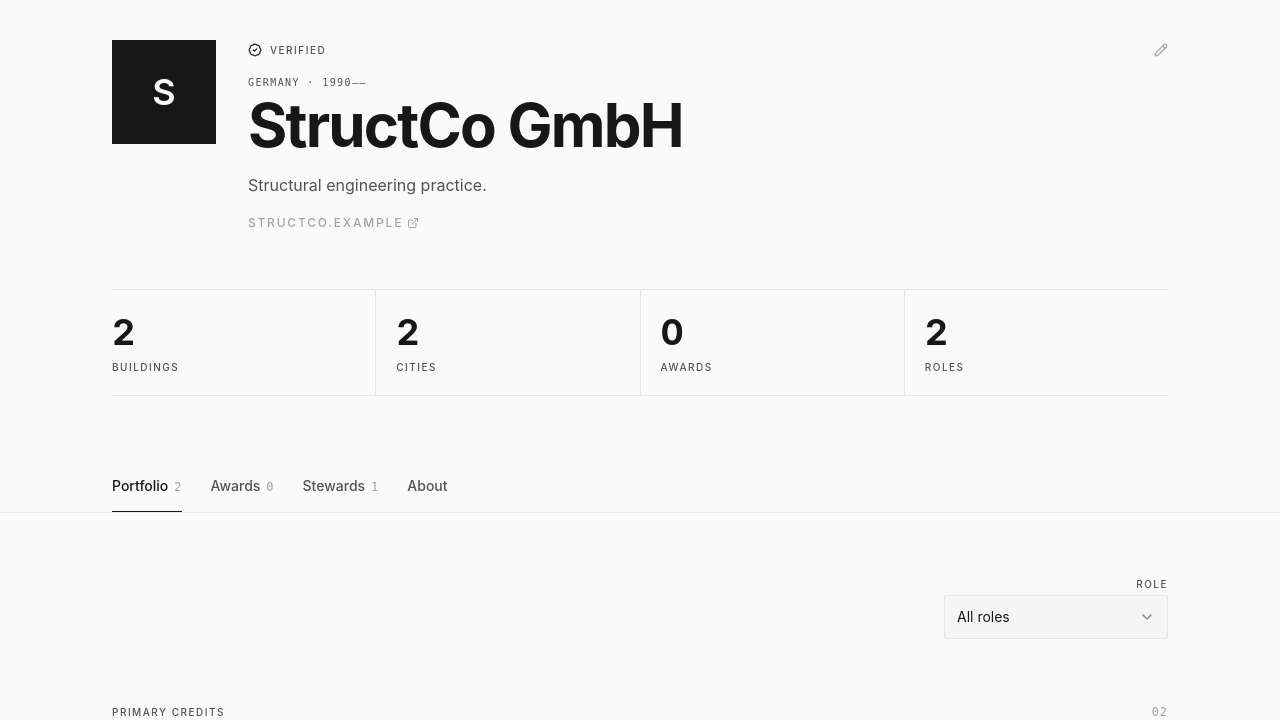
CompanyDetails profile-aligned layout › gives stewards a Stewards tab holding the roster
The width and height of the screenshot is (1280, 720).
Click the button "Stewards1".
click(341, 486)  # box [302,460,379,512]
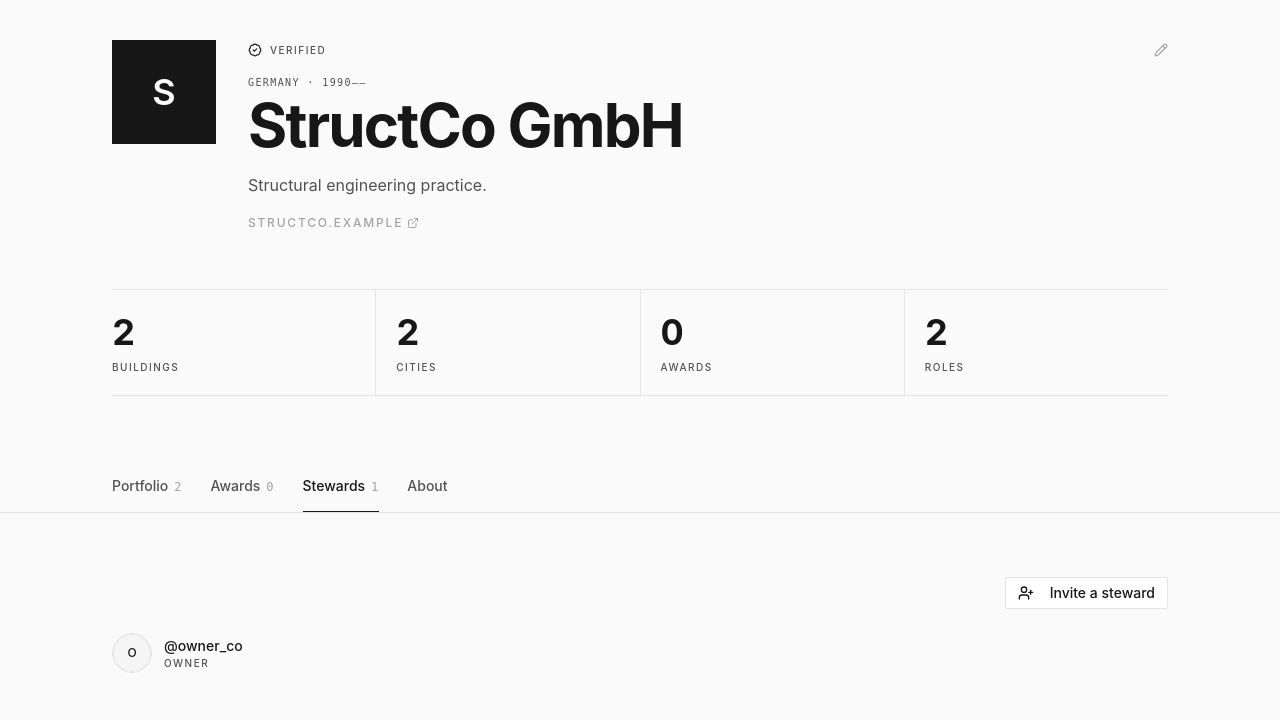
Check: the element named "Company stewards" is shown, box [112,577,1168,689]
Check: the text "@owner_co" is shown, box [164,636,243,656]
